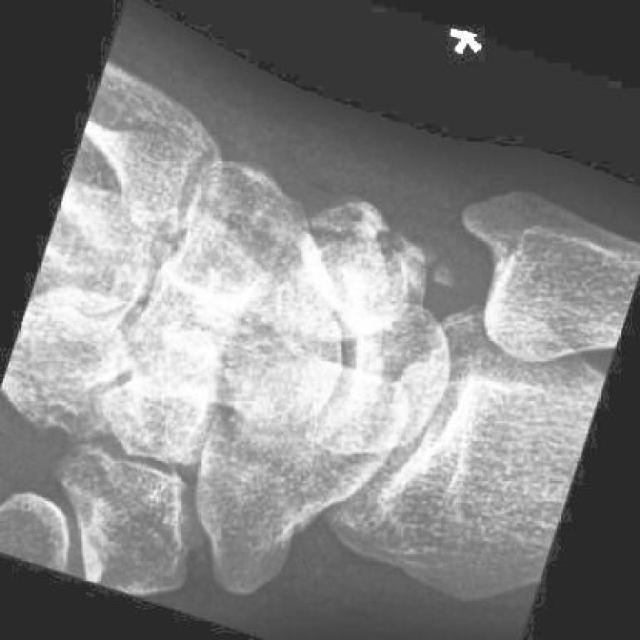Fracture: (271, 174, 413, 290)
